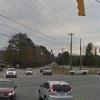Car: (32, 75, 80, 100)
